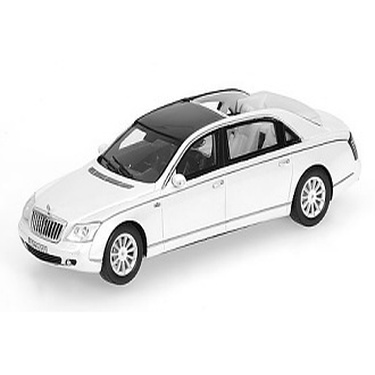car: (5, 82, 368, 293)
